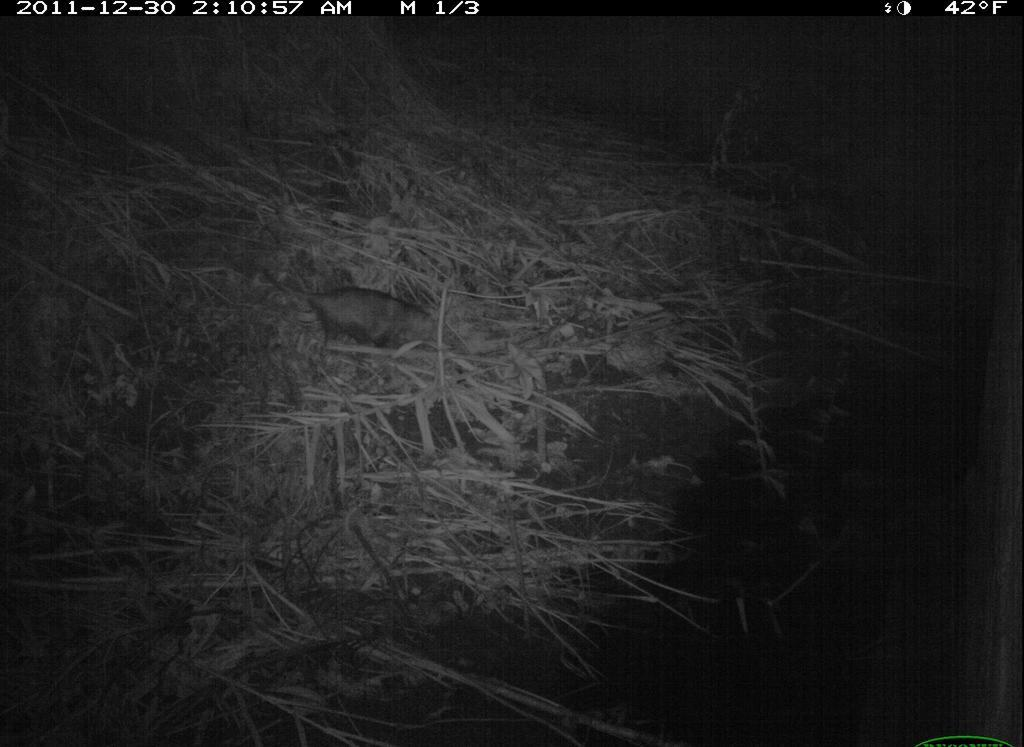opossum: (254, 254, 465, 372)
